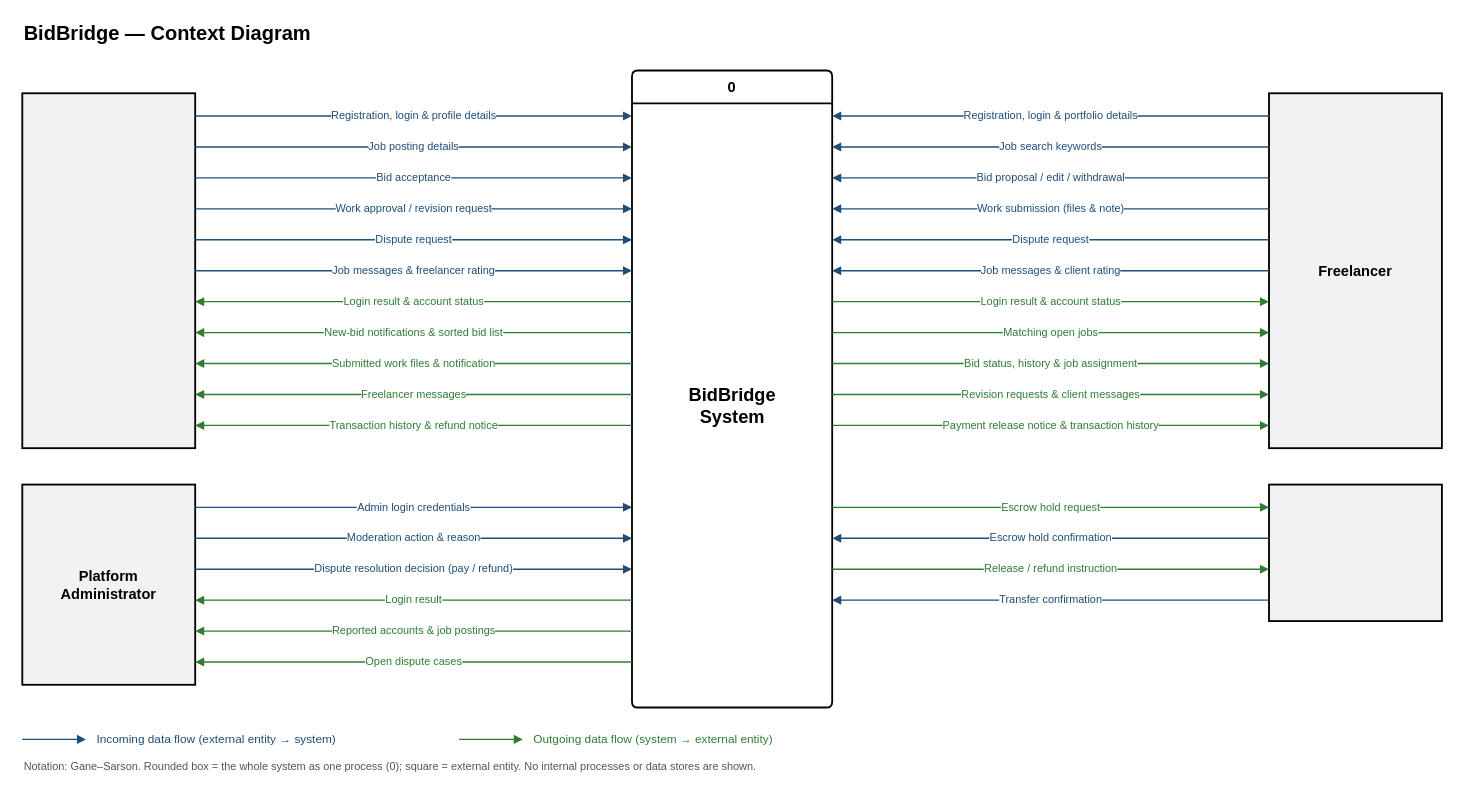
The diagram is 1459 pixels wide and 793 high, and some of its shapes have lost their labels. The centre of each missing label's shape, as x and y in pixels:
Client: [108,270]
Payment / Escrow Service: [1355,552]
